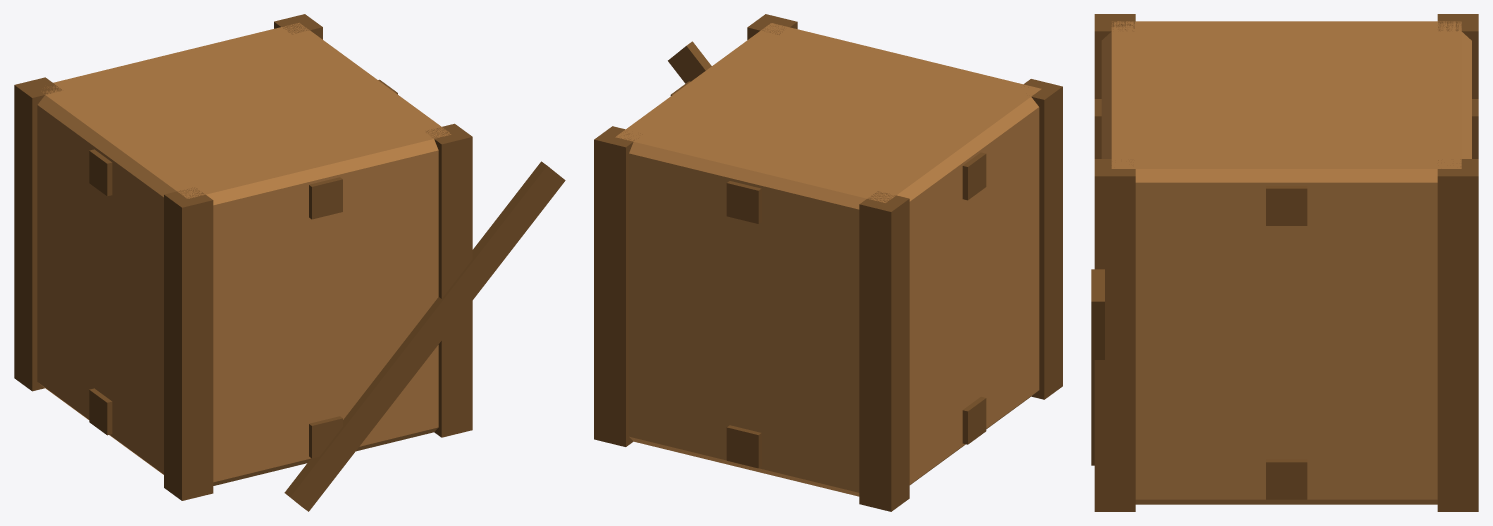
The model's file is prop_crate.glb.
3 renders of one model, left to right at view 1: azimuth 30°, elevation 25°; view 2: azimuth 150°, elevation 25°; view 3: azimuth 270°, elevation 25°, orthographic. The views are drawn at different scales.
Visible parts, largest first — view 1: crate, post.003, diag, post.001, post.002, edge.003, edge.001, edge.002, edge, post; view 2: crate, post.002, post, post.003, edge.001, edge.003, diag, edge.002, edge, post.001; view 3: crate, post, post.001, edge, diag, edge.002, post.003, post.002, edge.003.
Boxes of the visible parts, x1,y1,x2,y2 form: crate: [37, 22, 451, 485]; post.003: [164, 187, 213, 500]; diag: [284, 161, 565, 511]; post.001: [426, 123, 472, 437]; post.002: [14, 77, 61, 391]; edge.003: [309, 177, 342, 219]; edge.001: [309, 416, 342, 458]; edge.002: [89, 79, 397, 196]; edge: [89, 388, 112, 435]; post: [274, 14, 322, 39]; crate: [615, 23, 1041, 496]; post.002: [859, 191, 909, 511]; post: [594, 126, 642, 446]; post.003: [1023, 79, 1062, 399]; edge.001: [726, 425, 761, 468]; edge.003: [726, 181, 761, 223]; diag: [668, 41, 711, 83]; edge.002: [670, 81, 986, 200]; edge: [962, 397, 986, 444]; post.001: [747, 14, 797, 39]; crate: [1101, 21, 1471, 504]; post: [1437, 159, 1478, 511]; post.001: [1094, 159, 1135, 511]; edge: [1266, 459, 1307, 499]; diag: [1091, 269, 1104, 465]; edge.002: [1266, 186, 1307, 225]; post.003: [1094, 14, 1135, 158]; post.002: [1437, 14, 1478, 158]; edge.003: [1094, 99, 1478, 153].
Size of the model in its own units: 0.7361 by 0.6142 by 0.565.
